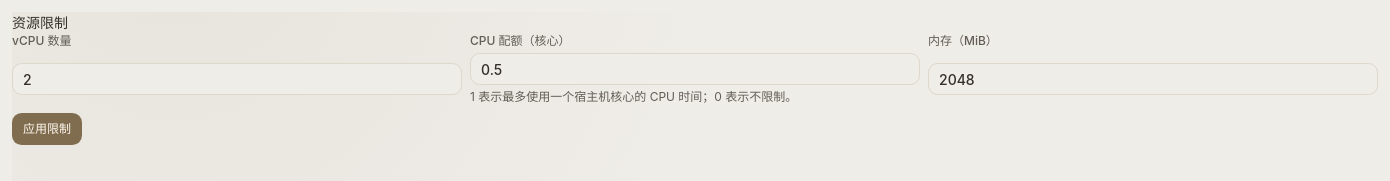
NodeResourcesEditor › shows quota in cores and converts it back to microseconds
Replace the text in the number field labelled "CPU 配额（核心） 1 表示最多使用一个宿主机核心的 CPU 时间；0 表示不限制。" with "0.75" at (695, 69), box [470,53,920,85]
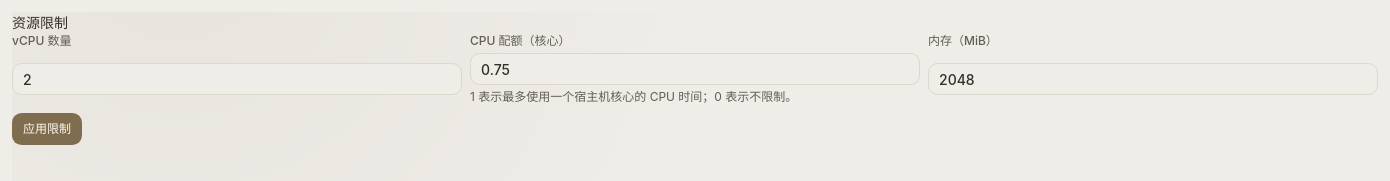
Submit the form
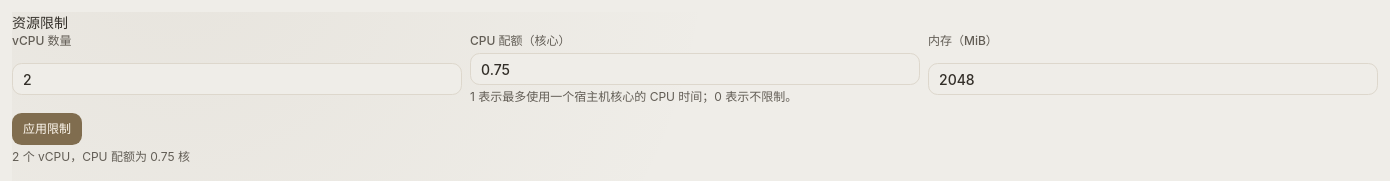
Now the form shows "CPU 配额为 0.75 核", box [12,149,190,164]
